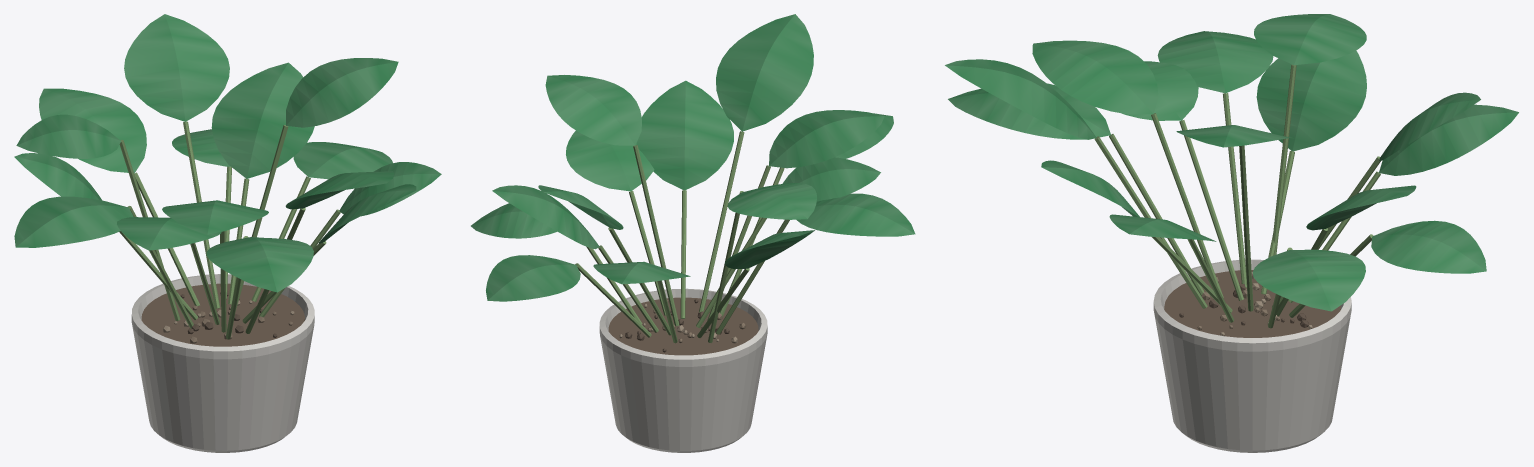
The model's file is monstera_LUMA_3D.glb.
3 views of the same model, side by side, from view 1: azimuth 30°, elevation 25°; view 2: azimuth 150°, elevation 25°; view 3: azimuth 270°, elevation 25° (orthographic). The views are drawn at different scales.
Visible parts, largest first — view 1: world; view 2: world; view 3: world.
Part boxes in pixels (box(x1,y1,x2,y2)): world: box(14, 14, 441, 452); world: box(471, 14, 915, 452); world: box(945, 14, 1518, 452).
Bounding box in the file's own units: 2.25 × 1.72 × 2.44.
